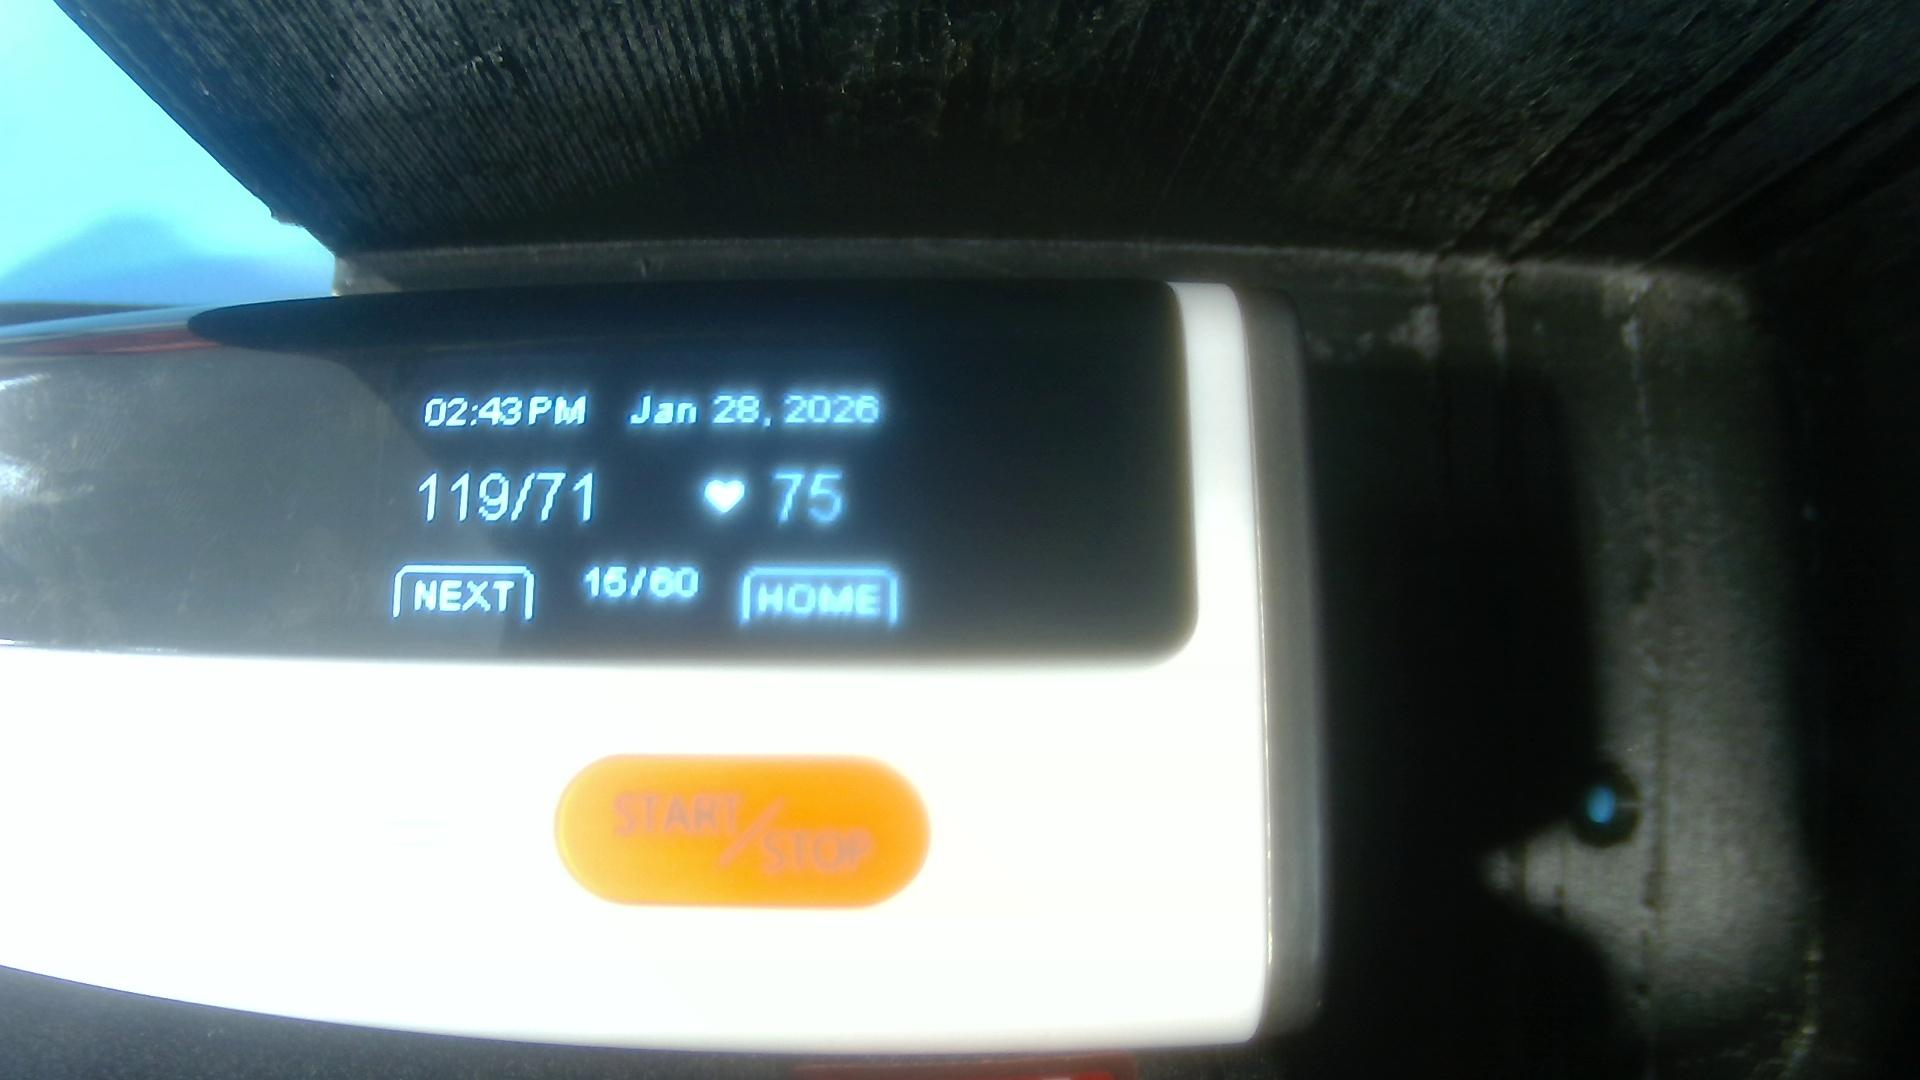DISPLAY: (4, 285, 1188, 641)
